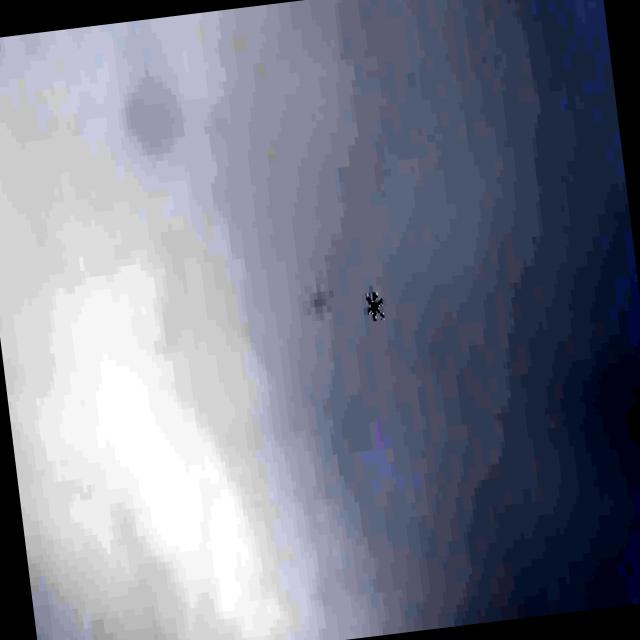drone: (362, 286, 384, 323)
